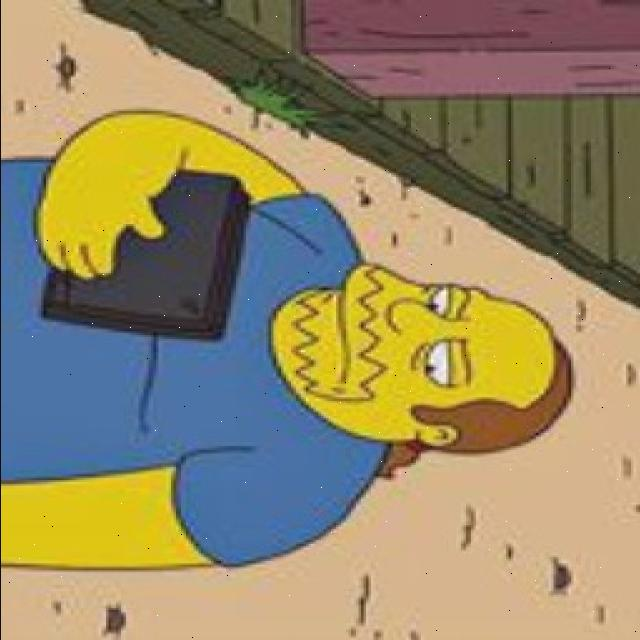Comic Book Guy: (261, 265, 579, 465)
